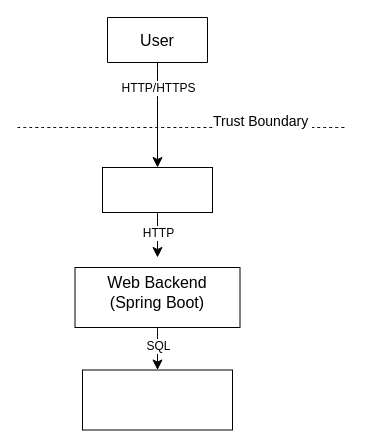
The diagram is 366 pixels wide and 448 high, and some of its shapes have lost their labels. The centre of each missing label's shape, as x and y in pixels:
Database (PostgreSQL): pixel 157 399
Ingress: pixel 157 189
